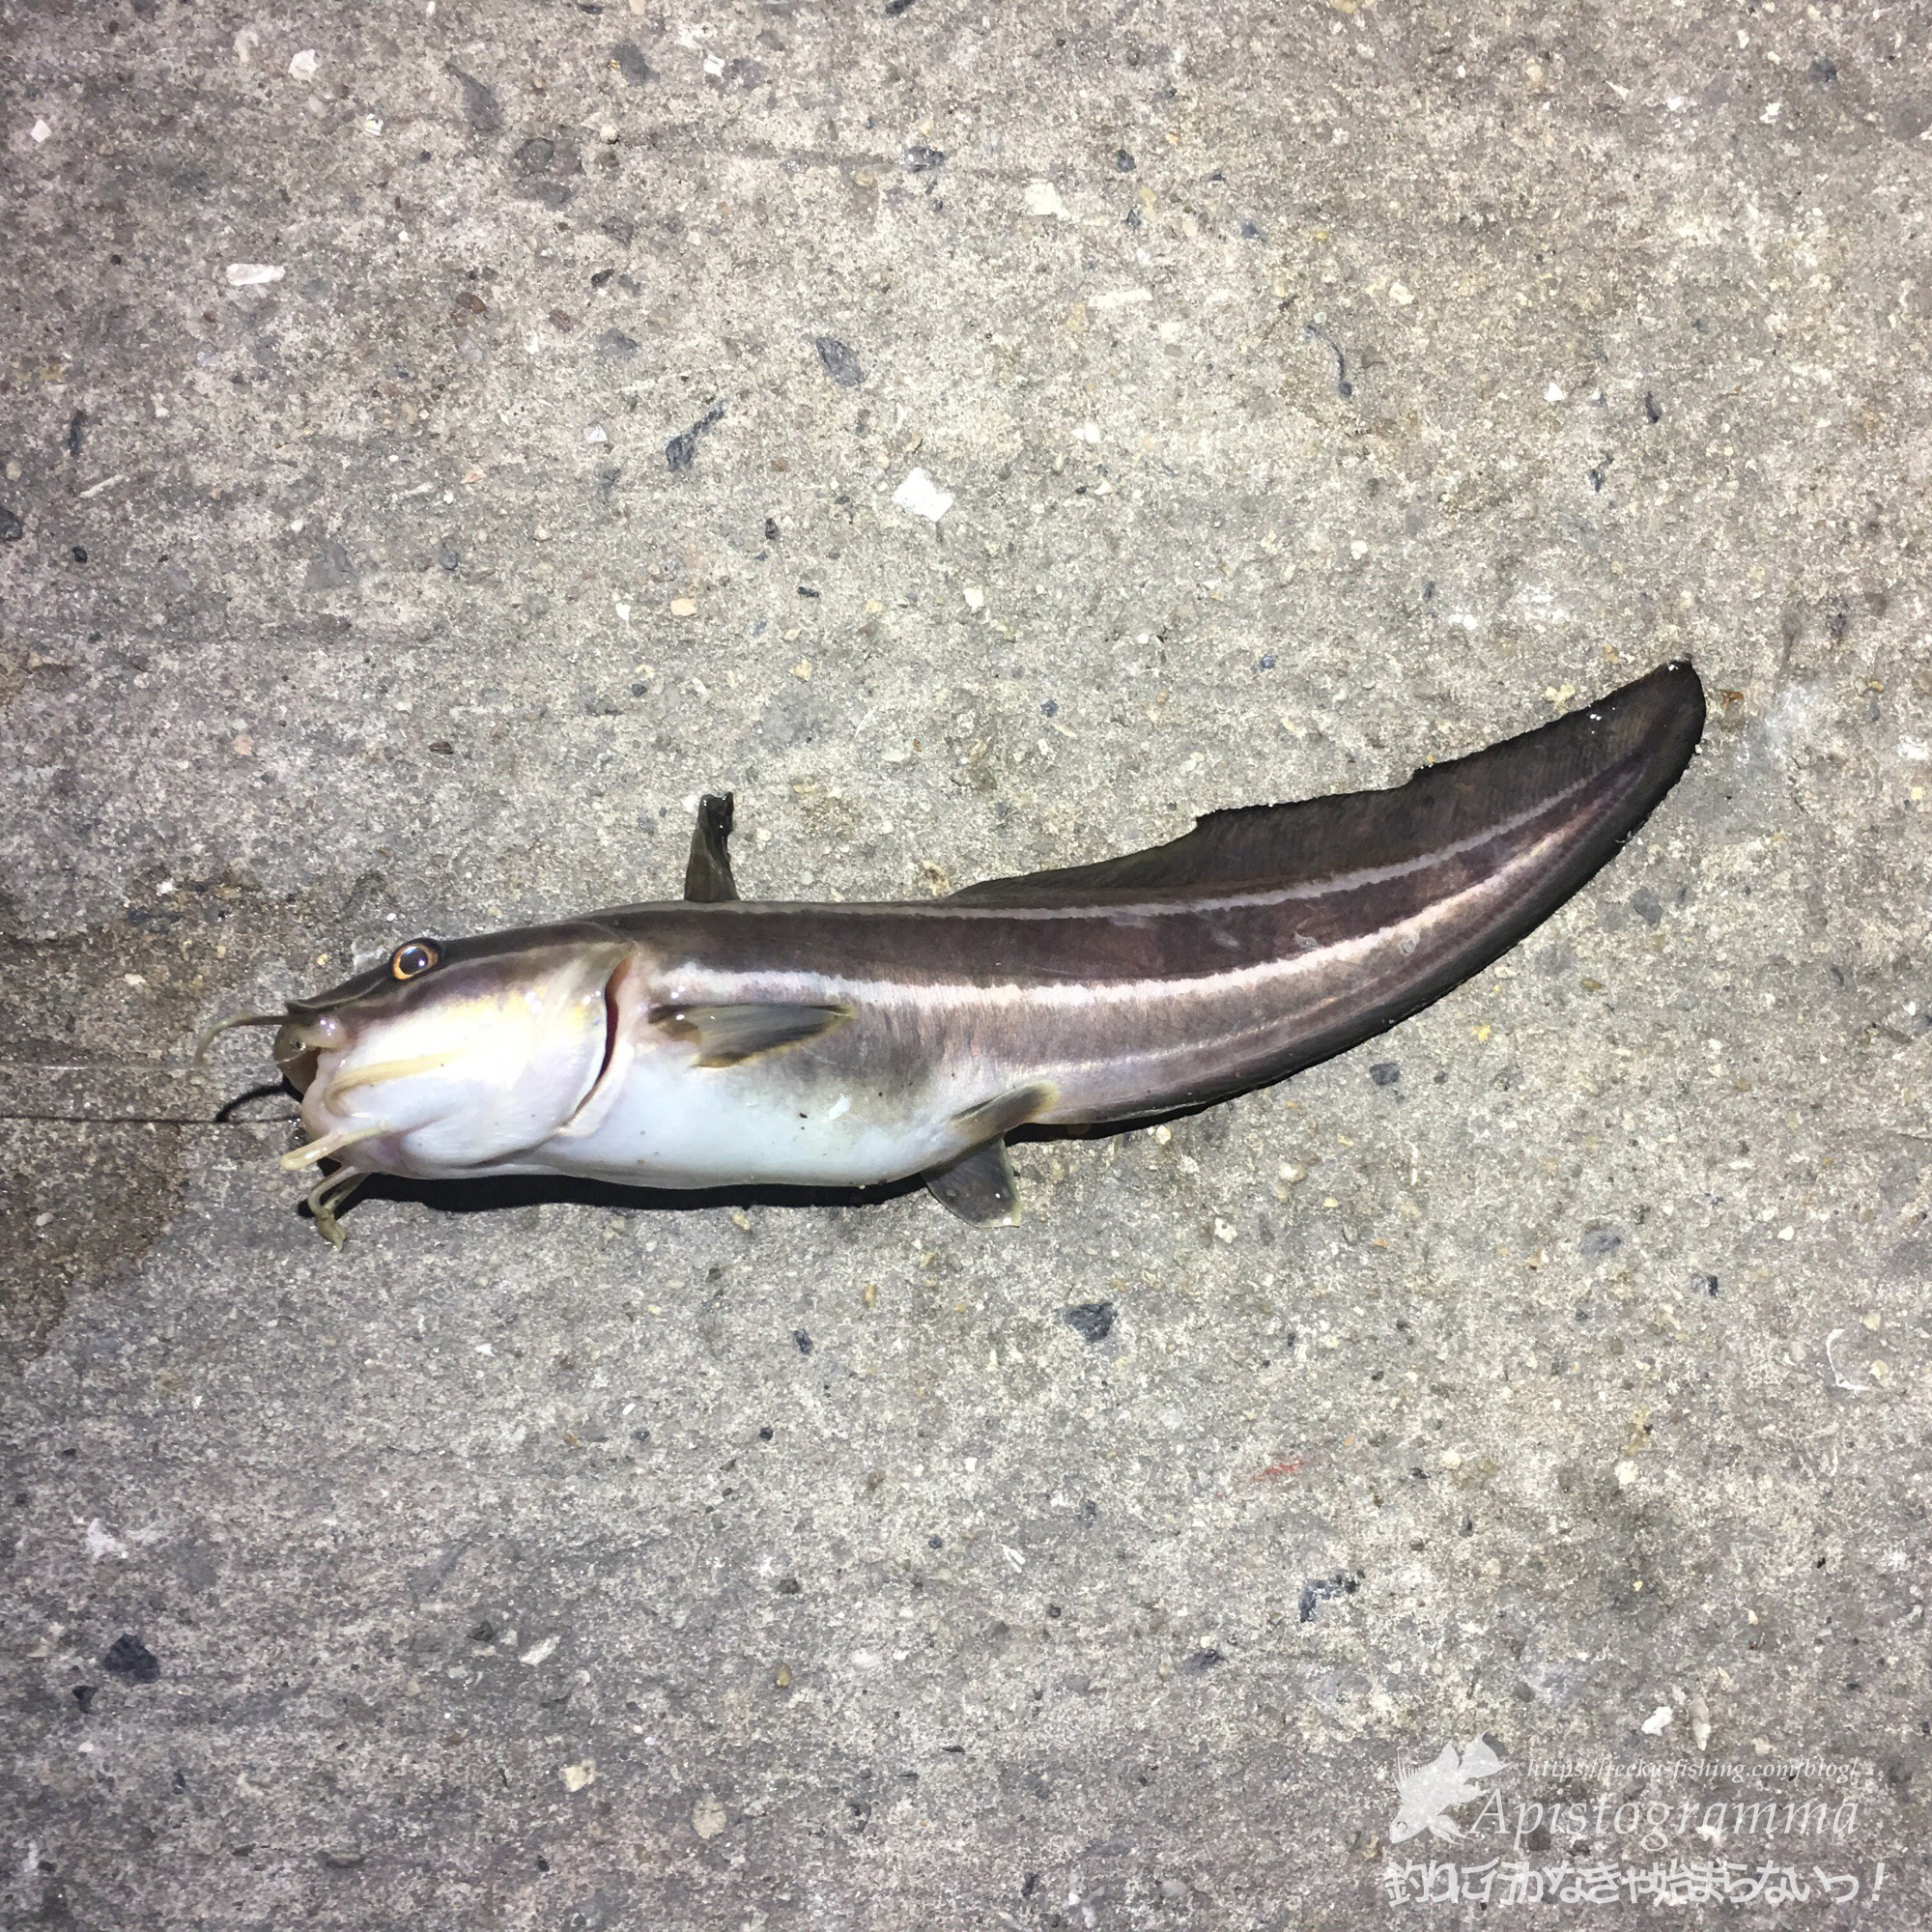gonzui: (225, 633, 1787, 1237)
